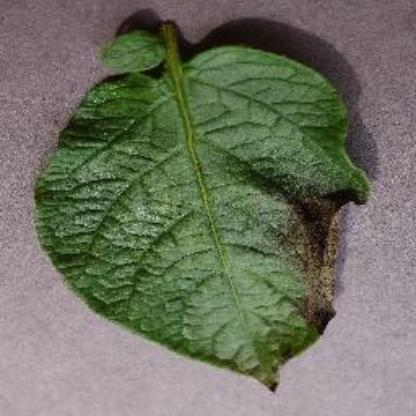Late-Blight: (37, 15, 375, 395)
